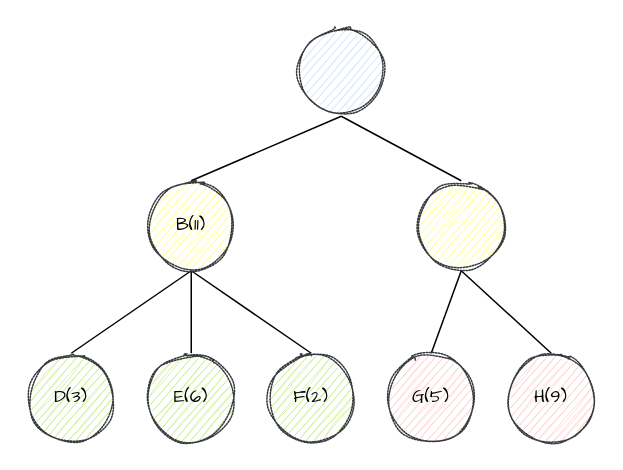
The diagram is 623 pixels wide and 470 high, and some of its shapes have lost their labels. The shapes that lost their labels are listed below. From the top down, each one's centre as x and y in pixels, then its label:
At (340,70): "A(8)".
At (460,225): "C(7)".
